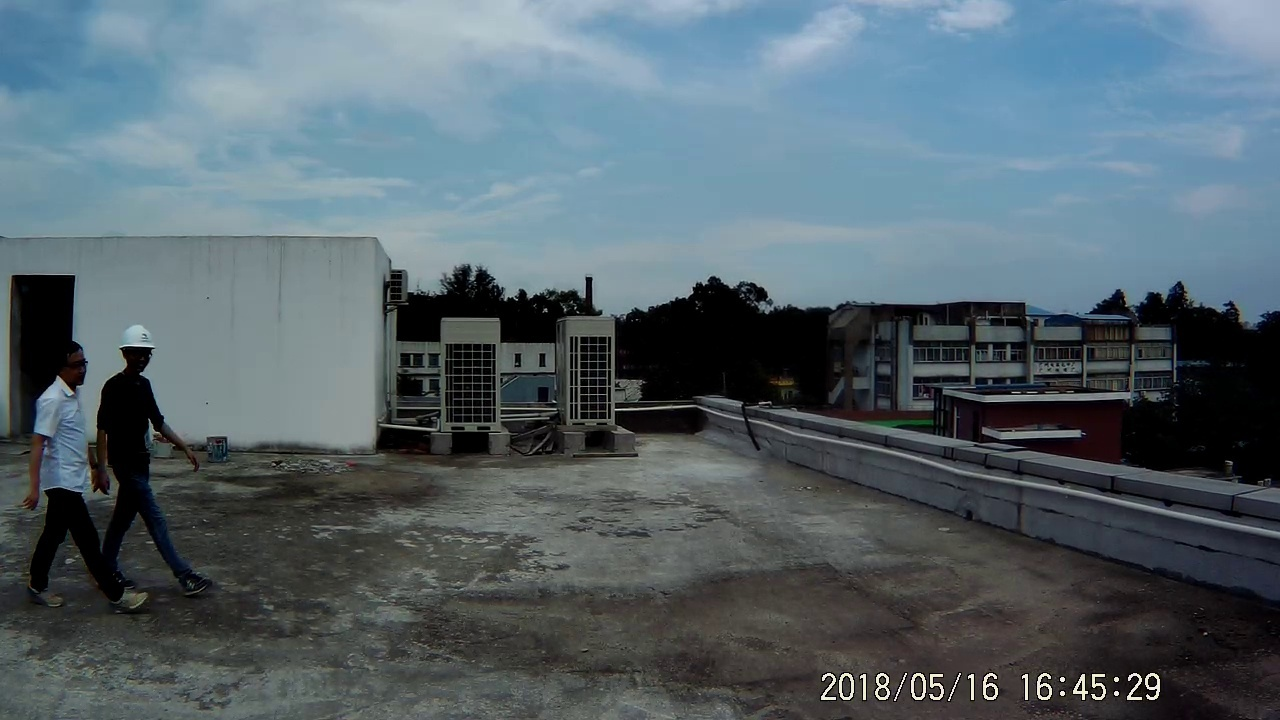none: (48, 336, 94, 392)
white: (114, 321, 158, 377)
